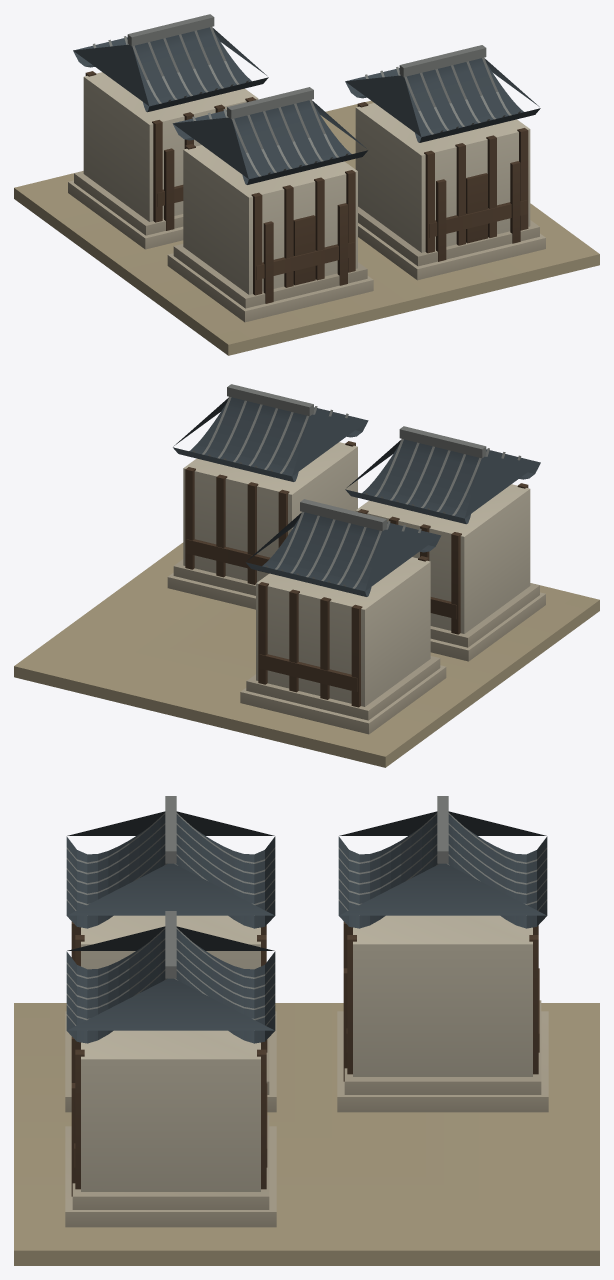
Rendered from granary-2.glb.
The picture shows the model from 3 angles, top to bottom: view 1: azimuth 30°, elevation 25°; view 2: azimuth 150°, elevation 25°; view 3: azimuth 270°, elevation 25°; orthographic projection. The views are drawn at different scales.
Parts seen in each view (by area): view 1: granary 2 1, granary 2 2, granary 2 4, granary 2 3, granary 2 0, granary 2 5; view 2: granary 2 4, granary 2 1, granary 2 2, granary 2 0, granary 2 3, granary 2 5; view 3: granary 2 4, granary 2 1, granary 2 2, granary 2 0, granary 2 5, granary 2 3.
Part boxes in pixels (box(x1,y1,x2,y2)): granary 2 1: box(83, 72, 530, 294); granary 2 2: box(73, 27, 540, 184); granary 2 4: box(14, 100, 599, 355); granary 2 3: box(85, 71, 528, 303); granary 2 0: box(68, 171, 545, 322); granary 2 5: box(93, 14, 520, 176); granary 2 4: box(14, 542, 599, 767); granary 2 1: box(183, 442, 530, 706); granary 2 2: box(173, 397, 540, 596); granary 2 0: box(167, 559, 545, 734); granary 2 3: box(185, 441, 528, 707); granary 2 5: box(192, 384, 521, 588); granary 2 4: box(14, 1003, 599, 1265); granary 2 1: box(81, 915, 532, 1191); granary 2 2: box(66, 811, 547, 1043); granary 2 0: box(65, 1000, 548, 1227); granary 2 5: box(66, 796, 547, 1030); granary 2 3: box(71, 921, 539, 1196).
Bounding box in the file's own units: 2.8 × 1.38 × 2.8.
